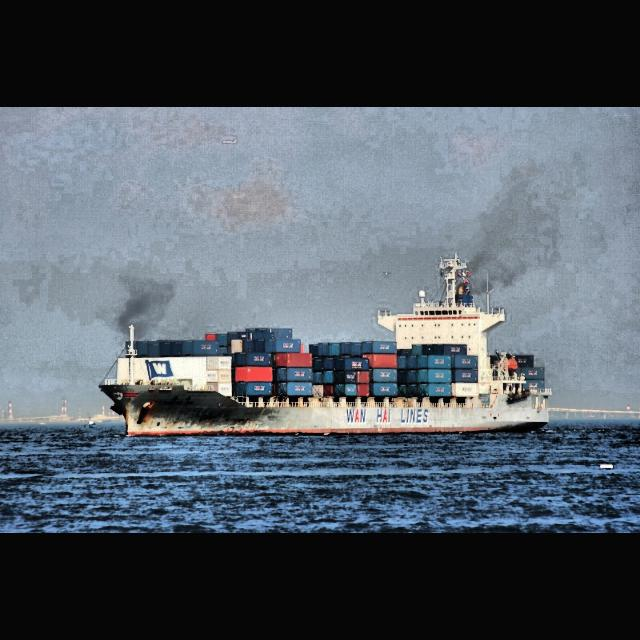container: (98, 250, 554, 440)
